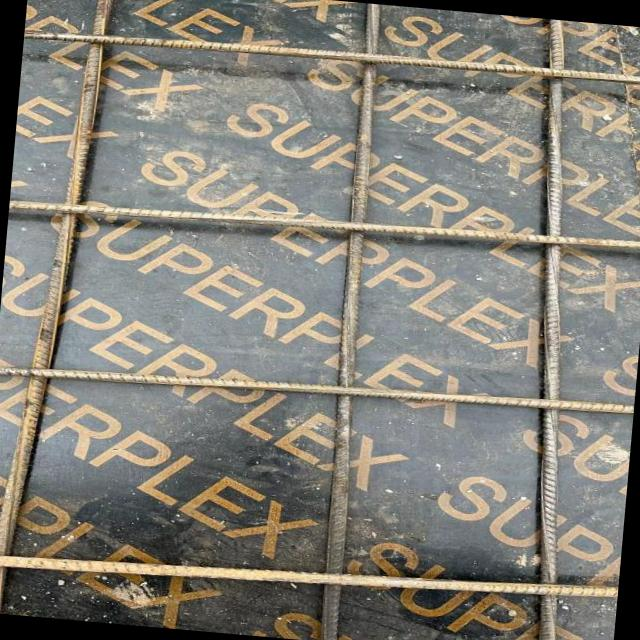ribbed bar: (488, 18, 611, 640), (0, 0, 116, 617), (0, 530, 617, 622), (309, 2, 393, 640), (0, 349, 633, 432), (8, 182, 640, 265), (23, 21, 640, 95)
